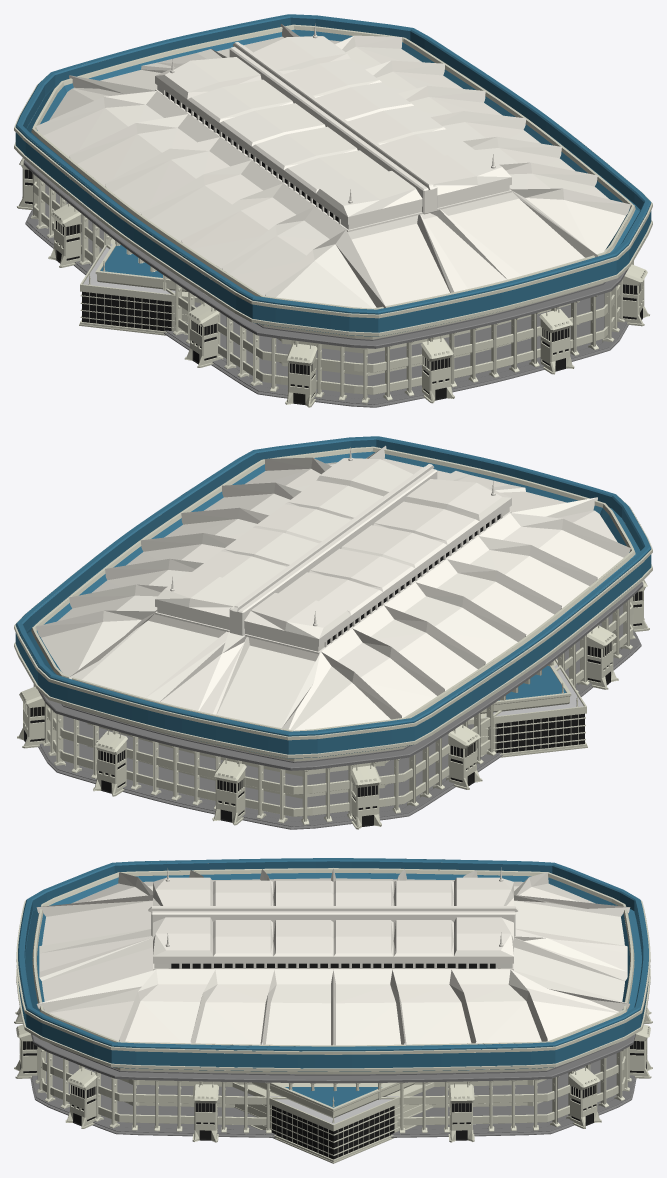
The model's file is house.FBX.
3 renders of one model, top to bottom at view 1: azimuth 30°, elevation 25°; view 2: azimuth 150°, elevation 25°; view 3: azimuth 270°, elevation 25°, orthographic. The views are drawn at different scales.
Parts seen in each view (by area): view 1: roof2, vertic, blue, floor, glass, roof1; view 2: roof2, vertic, blue, floor, glass, roof1; view 3: roof2, vertic, blue, floor, glass, roof1.
Part boxes in pixels (left/top/right/bottom): roof2: left=36, top=23, right=630, bottom=308; vertic: left=14, top=24, right=652, bottom=407; blue: left=15, top=14, right=651, bottom=336; floor: left=23, top=160, right=628, bottom=407; glass: left=24, top=92, right=642, bottom=404; roof1: left=83, top=243, right=175, bottom=294; roof2: left=36, top=445, right=630, bottom=730; vertic: left=14, top=446, right=652, bottom=829; blue: left=15, top=436, right=651, bottom=758; floor: left=38, top=582, right=643, bottom=829; glass: left=24, top=514, right=642, bottom=826; roof1: left=485, top=664, right=583, bottom=717; roof2: left=36, top=867, right=630, bottom=1045; vertic: left=14, top=862, right=652, bottom=1163; blue: left=18, top=858, right=648, bottom=1107; floor: left=30, top=1034, right=636, bottom=1137; glass: left=20, top=963, right=646, bottom=1159; roof1: left=270, top=1096, right=398, bottom=1124.
Bounding box in the file's own units: 26.84 × 7.98 × 31.17.
